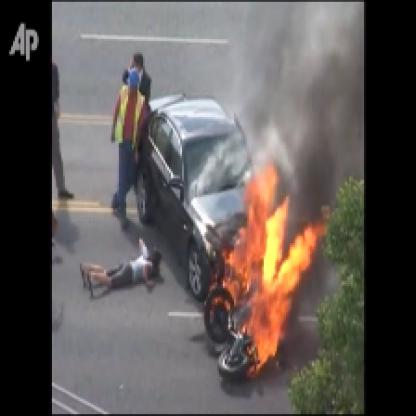Fire: (204, 150, 322, 384)
Smoke: (228, 2, 364, 176)
